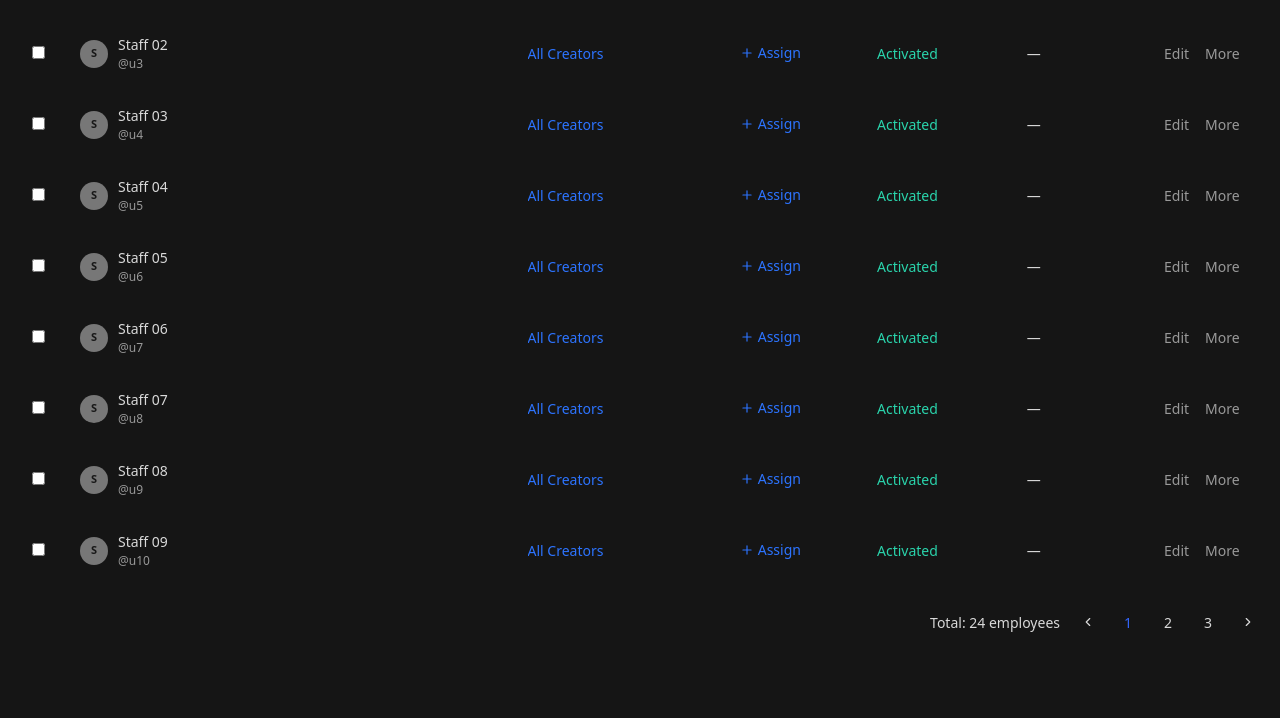
EmployeesTab paging › a filter change on page 2 goes back to page 1
The width and height of the screenshot is (1280, 718).
(page scrolled)
Expected: the navigation bar named "Pagination" shows "Total: 24 employees", [930,606,1264,638]
Click the button named "Page 2": [1168, 622] box [1152,606,1184,638]
(page scrolled)
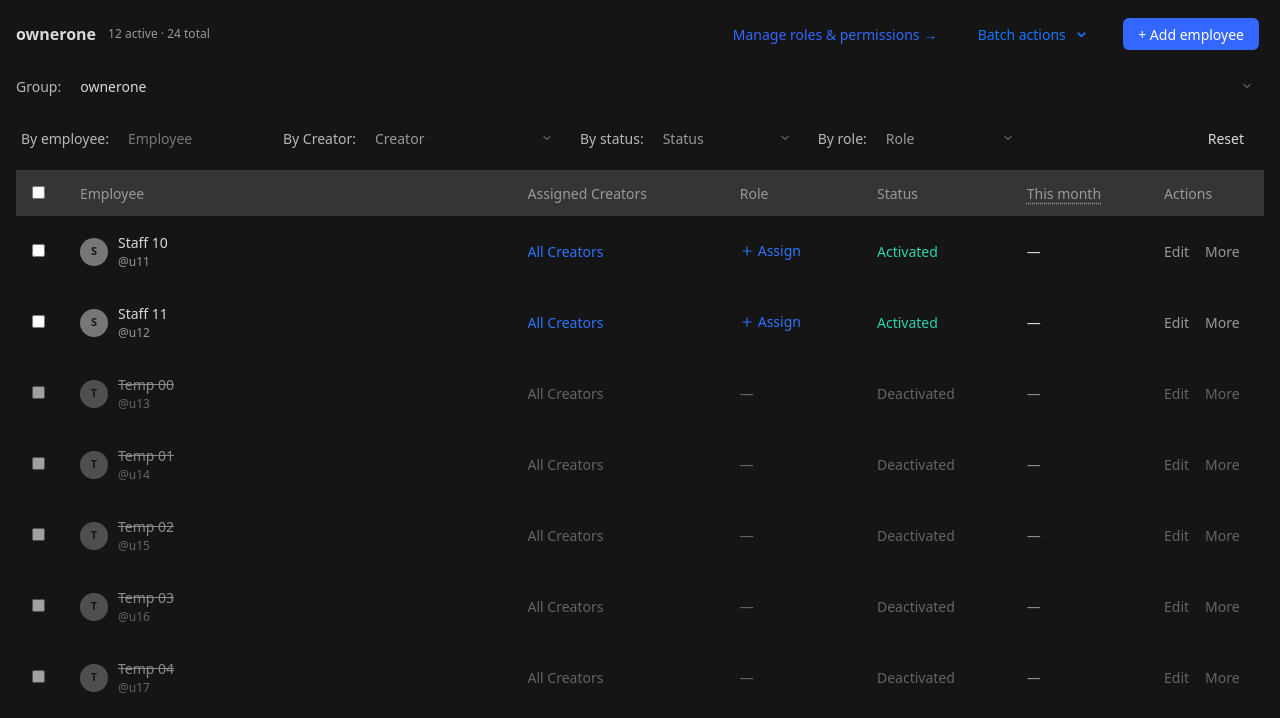
Expected: the text "Staff 10" is shown, [118,232,168,253]
Click the dropdown named "By status": [727, 138] box [652,122,802,154]
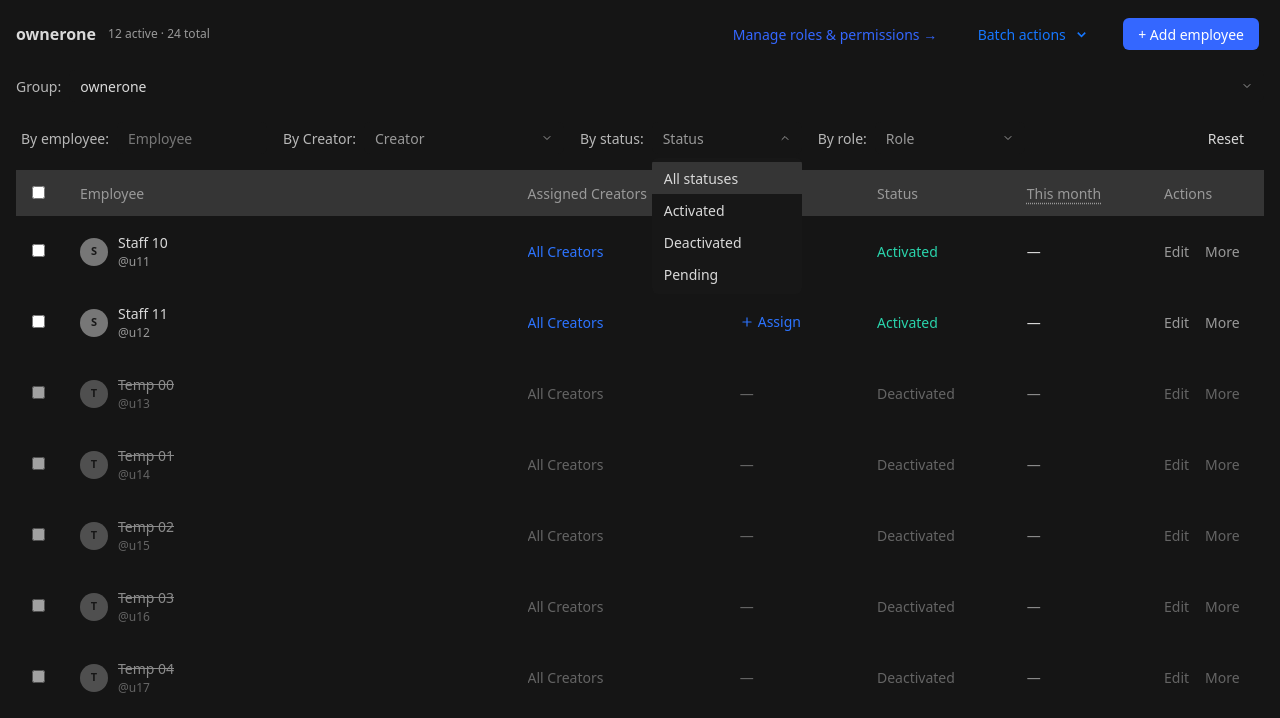
Click the option "Activated": [694, 210] box [664,200,725,220]
(page scrolled)
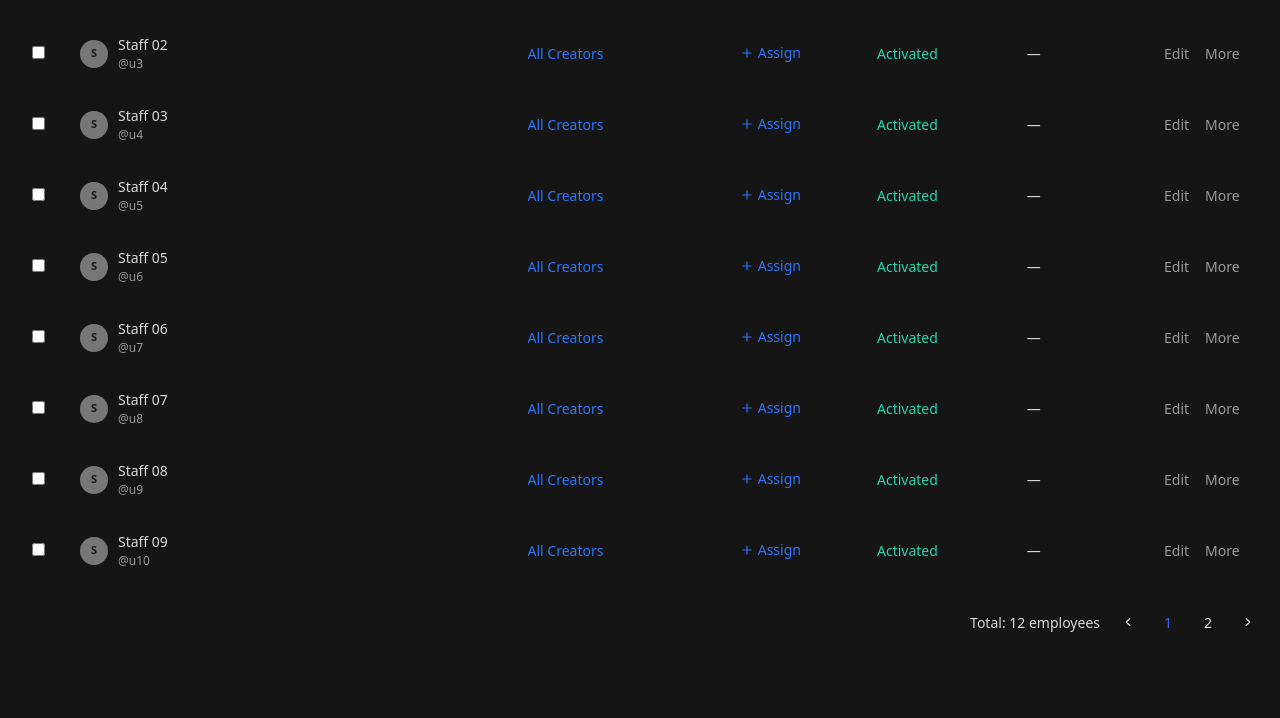
Expected: the navigation bar named "Pagination" shows "Total: 12 employees", [970,606,1264,638]
